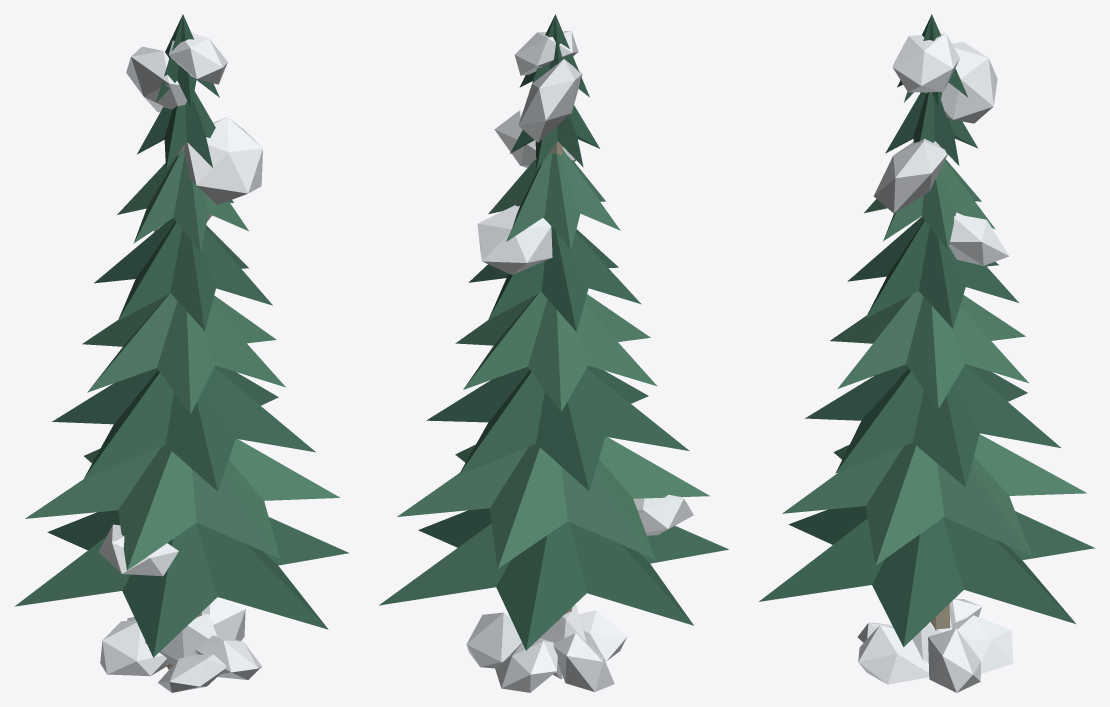
Rendered from SM_Tree_Conifer_Winter_02.glb.
3 renders of one model, left to right at view 1: azimuth 30°, elevation 25°; view 2: azimuth 150°, elevation 25°; view 3: azimuth 270°, elevation 25°, orthographic.
Parts seen in each view (by area): view 1: SM_Tree_Conifer_Winter_02; view 2: SM_Tree_Conifer_Winter_02; view 3: SM_Tree_Conifer_Winter_02.
Part boxes in pixels (bbox=[...]): SM_Tree_Conifer_Winter_02: bbox=[14, 14, 349, 692]; SM_Tree_Conifer_Winter_02: bbox=[379, 14, 728, 692]; SM_Tree_Conifer_Winter_02: bbox=[759, 14, 1095, 692].
Size of the model in its own units: 2.81 by 5.69 by 2.71.
